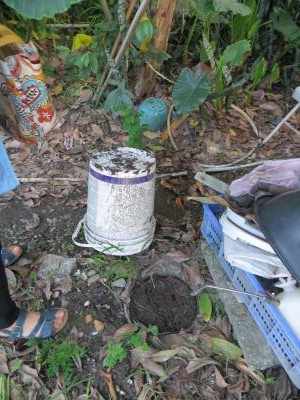bowl: (136, 96, 172, 132)
bucket: (82, 147, 157, 256)
